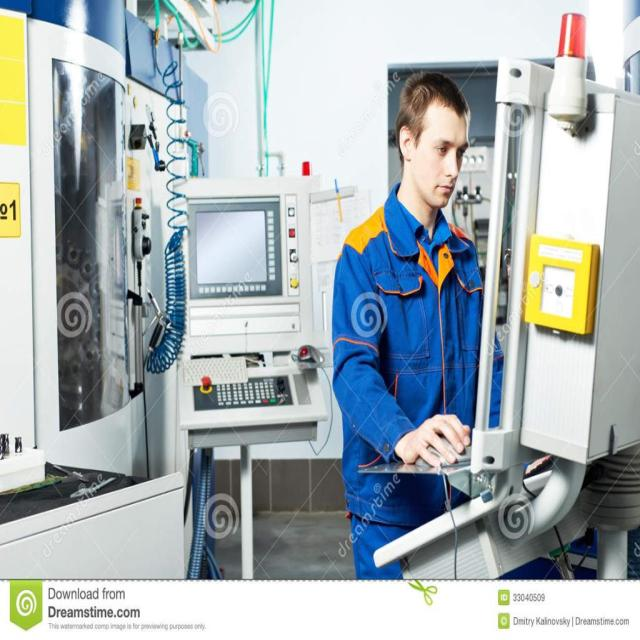Face: (402, 92, 470, 207)
